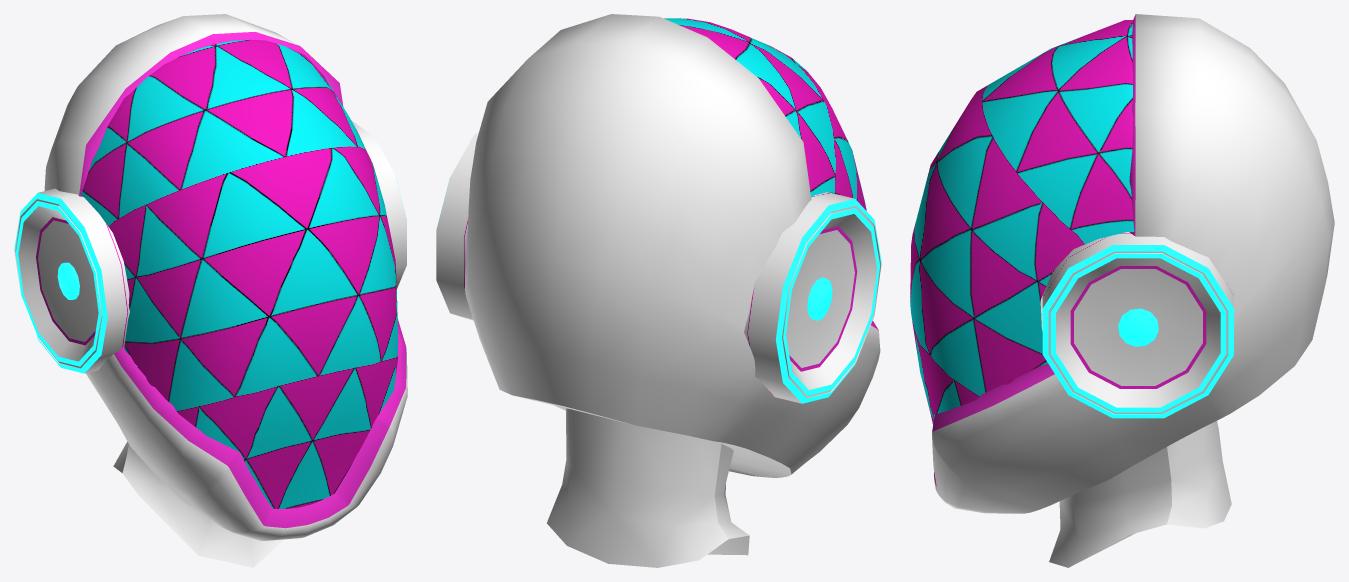
File: Helmet_White.glb
The picture shows the model from 3 angles, left to right: view 1: azimuth 30°, elevation 25°; view 2: azimuth 150°, elevation 25°; view 3: azimuth 270°, elevation 25°; orthographic projection. The views are drawn at different scales.
Visible parts, largest first — view 1: Helmet Triangles-White; view 2: Helmet Triangles-White; view 3: Helmet Triangles-White.
Part boxes in pixels (x1,y1,x2,y2): Helmet Triangles-White: (14,14,407,567); Helmet Triangles-White: (436,14,881,567); Helmet Triangles-White: (910,14,1334,567).
Size of what is drawn, in the model's own units: 0.2991 by 0.4706 by 0.3388.
Materials: 2 (2 with a texture image).
